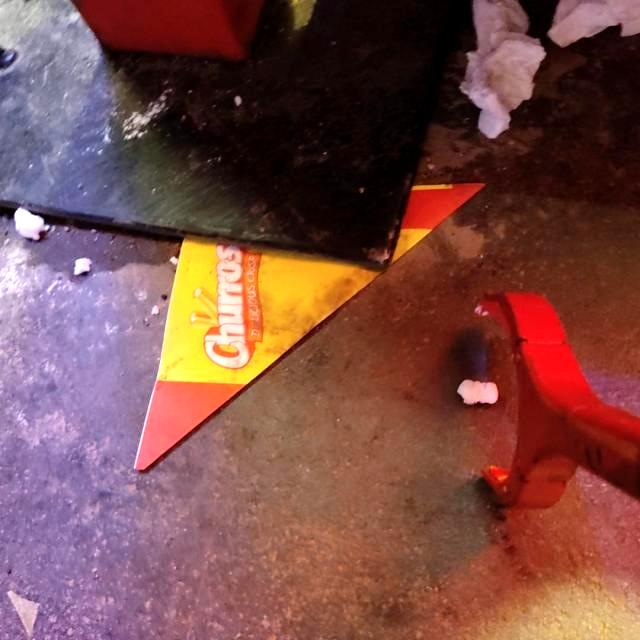Paper: (132, 180, 488, 472)
